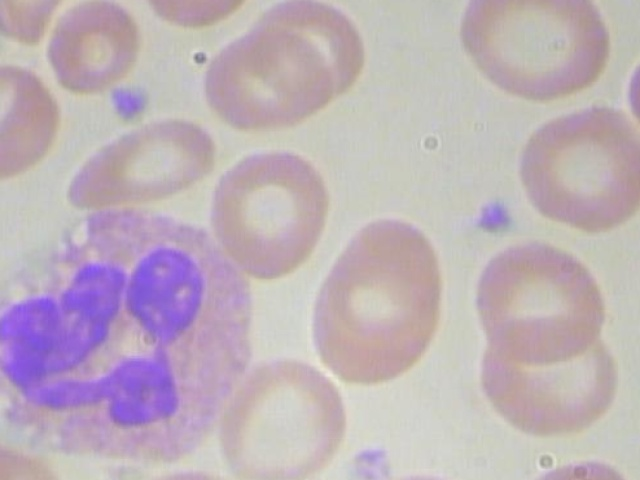Platelets: (462, 192, 520, 245), (339, 441, 405, 480), (109, 79, 159, 126)
RBC: (302, 214, 453, 390), (206, 140, 336, 282), (474, 312, 620, 437), (469, 237, 615, 361), (510, 99, 640, 237), (217, 351, 350, 480), (65, 109, 222, 216), (458, 0, 615, 100), (203, 16, 339, 131), (43, 0, 140, 106), (0, 62, 63, 180), (123, 0, 266, 34), (0, 0, 85, 51)
WBC: (0, 193, 274, 474)
